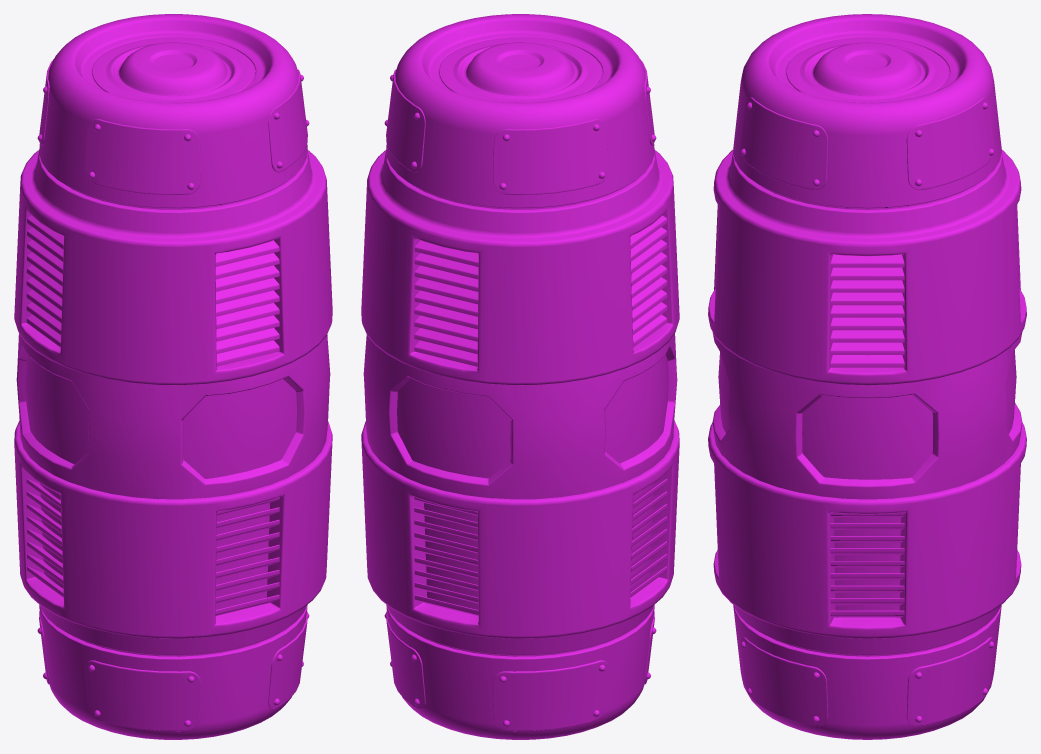
Rendered from SM_Barrel03.fbx.
The picture shows the model from 3 angles, left to right: view 1: azimuth 30°, elevation 25°; view 2: azimuth 150°, elevation 25°; view 3: azimuth 270°, elevation 25°; orthographic projection.
Visible parts, largest first — view 1: SM_Barrel03; view 2: SM_Barrel03; view 3: SM_Barrel03.
Part boxes in pixels (box(x1,y1,x2,y2)): SM_Barrel03: box(14, 14, 332, 739); SM_Barrel03: box(361, 14, 679, 739); SM_Barrel03: box(708, 14, 1026, 739).
Size of the model in its own units: 51.15 by 112 by 51.15.
